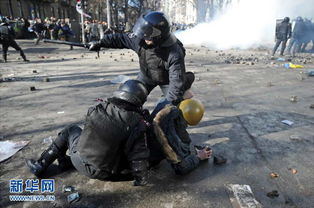fall: (24, 75, 158, 181)
